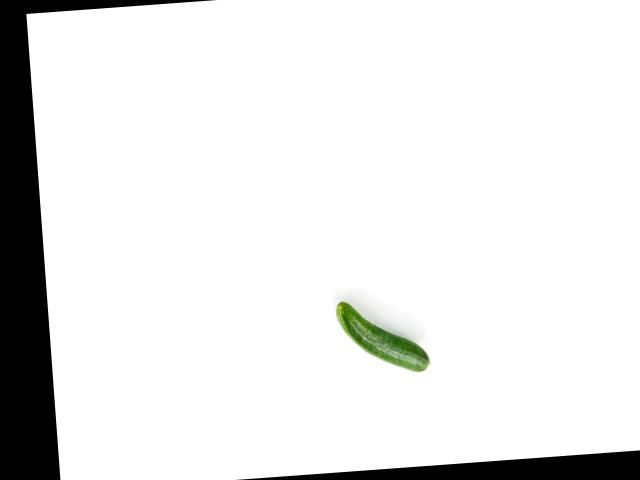cucumber: (335, 295, 430, 377)
